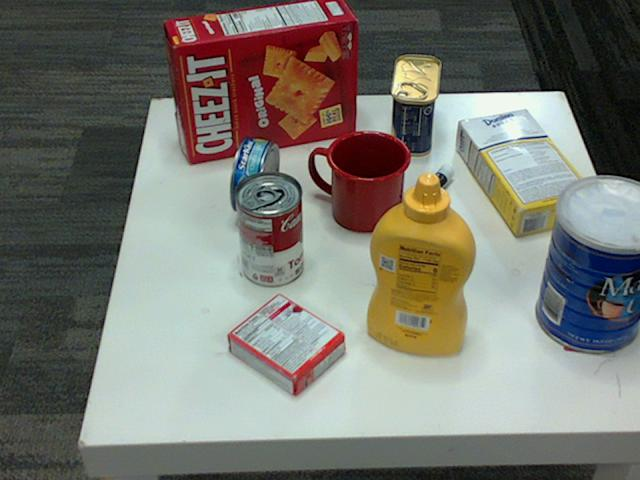cracker_box: (164, 0, 354, 161)
gelatin_box: (224, 293, 341, 397)
large_marker: (393, 168, 454, 231)
master_chef_can: (537, 176, 639, 354)
mug: (309, 128, 410, 231)
mustard_bottle: (366, 173, 477, 355)
potted_meat_can: (388, 56, 438, 156)
sugar_box: (456, 110, 596, 237)
tomato_soup_can: (234, 171, 303, 287)
tuna_fish_can: (228, 136, 278, 215)
